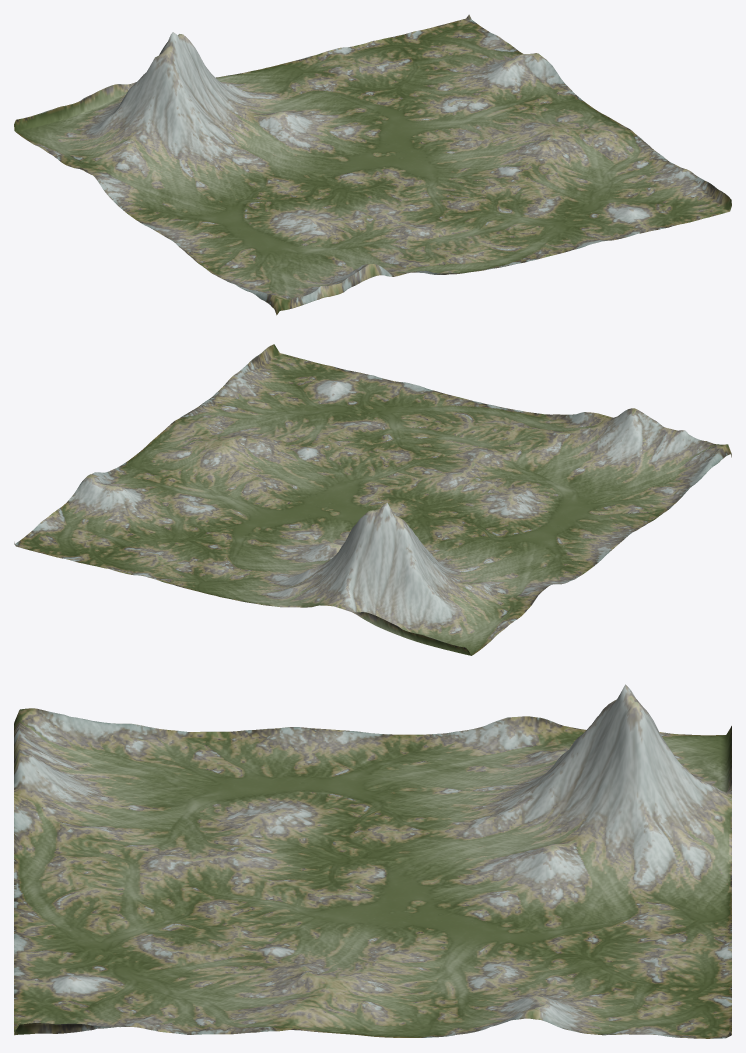
Rendered from worldMaschine.fbx.
3 renders of one model, top to bottom at view 1: azimuth 30°, elevation 25°; view 2: azimuth 150°, elevation 25°; view 3: azimuth 270°, elevation 25°, orthographic. The views are drawn at different scales.
Parts seen in each view (by area): view 1: World; view 2: World; view 3: World.
Part boxes in pixels (x1=…): World: x1=14, y1=14, x2=731, y2=315; World: x1=14, y1=344, x2=731, y2=655; World: x1=14, y1=684, x2=731, y2=1038.
Size of the model in its own units: 200 by 41.09 by 200.
